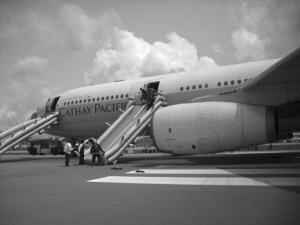airplane: (1, 45, 300, 160)
